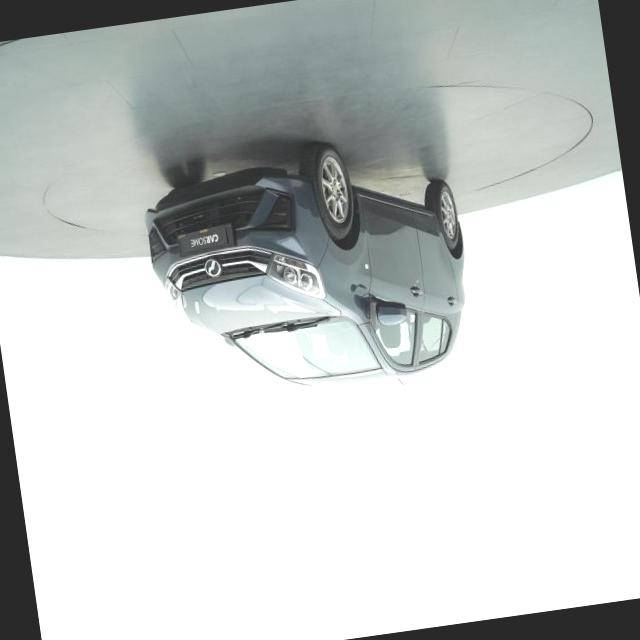PeroduaAxia: (137, 124, 484, 418)
